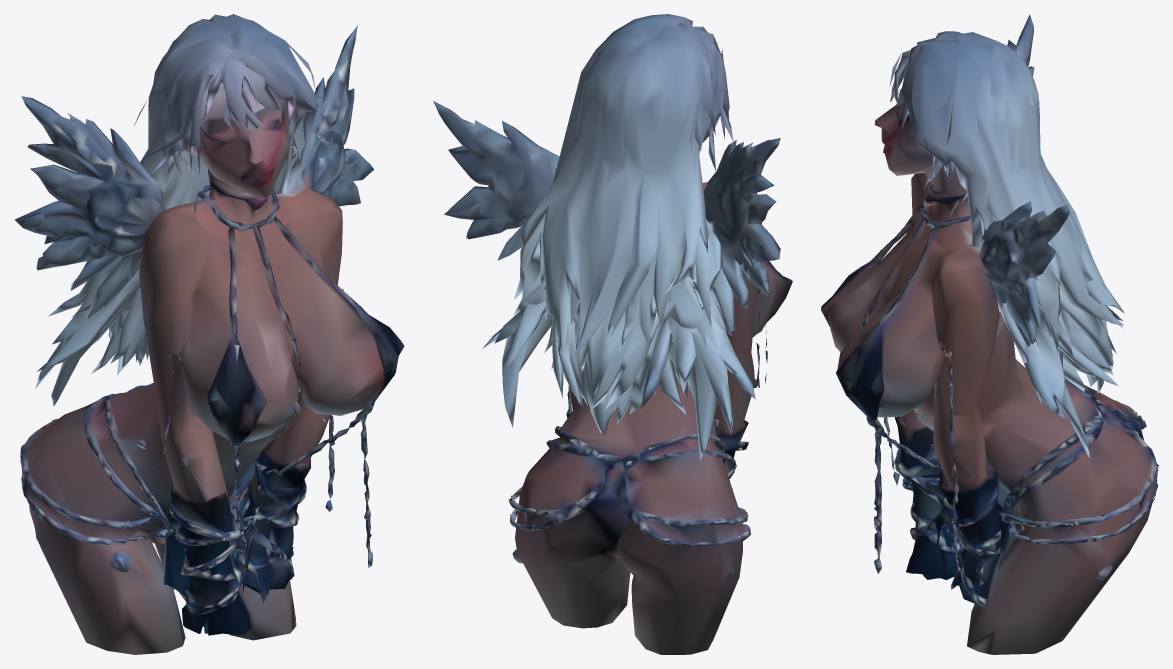
3 views of the same model, side by side, from view 1: azimuth 30°, elevation 25°; view 2: azimuth 150°, elevation 25°; view 3: azimuth 270°, elevation 25° (orthographic). The views are drawn at different scales.
Visible parts, largest first — view 1: model; view 2: model; view 3: model.
Boxes of the visible parts, x1,y1,x2,y2 form: model: (14,14,404,654); model: (433,14,792,654); model: (821,14,1158,654).
Bounding box in the file's own units: 1.15 × 1.89 × 1.
